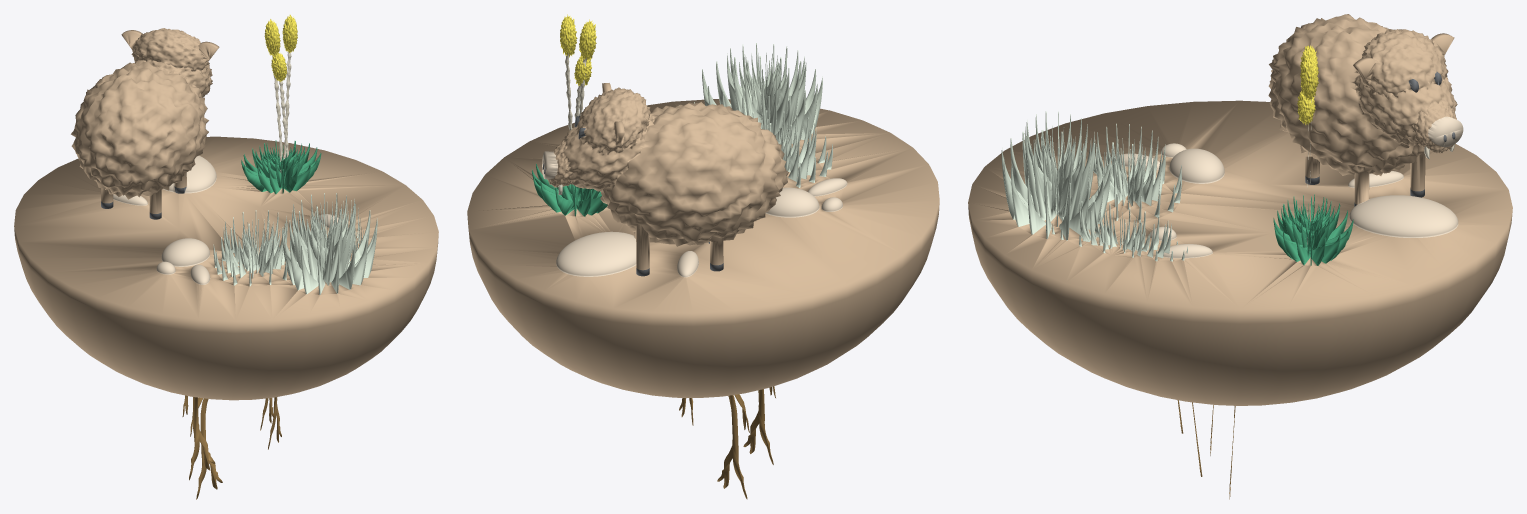
File: Javalinas.glb
3 renders of one model, left to right at view 1: azimuth 30°, elevation 25°; view 2: azimuth 150°, elevation 25°; view 3: azimuth 270°, elevation 25°, orthographic. The views are drawn at different scales.
Visible parts, largest first — view 1: obj_0; view 2: obj_0; view 3: obj_0.
Part boxes in pixels (x1,y1,x2,y2): obj_0: [14, 14, 438, 499]; obj_0: [467, 14, 939, 499]; obj_0: [968, 14, 1512, 499].
Bounding box in the file's own units: 68 × 77.78 × 75.
